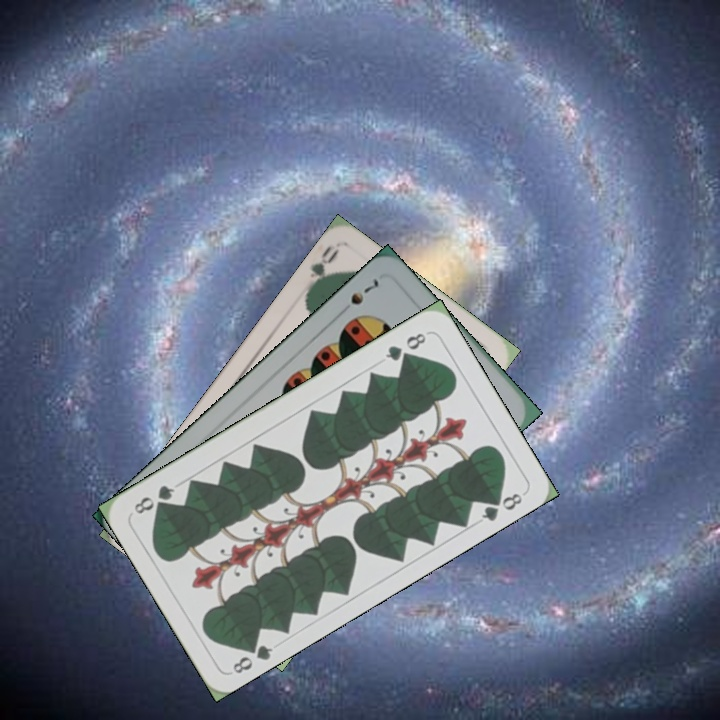G8: (228, 636, 276, 677), (381, 328, 429, 364)
GO: (302, 241, 342, 296)
S7: (346, 274, 382, 308)
